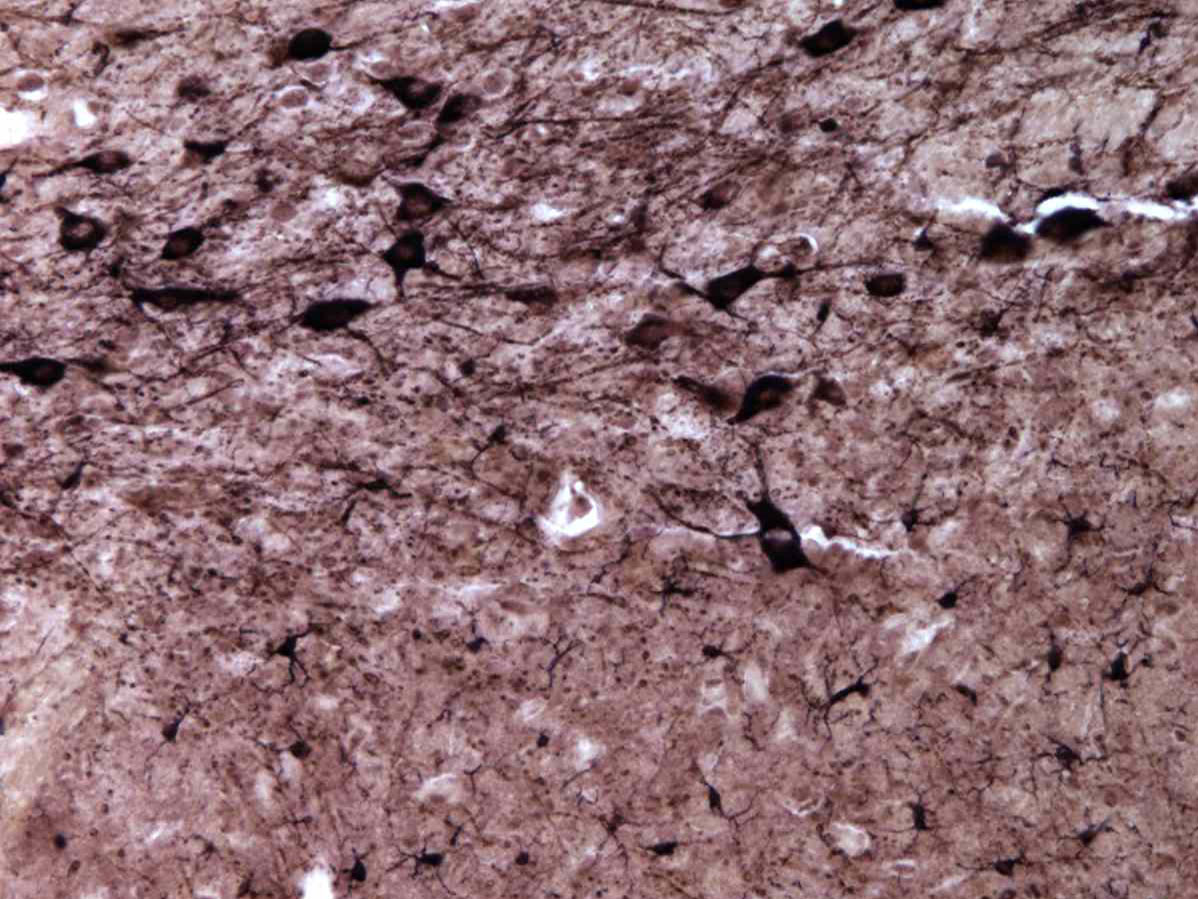neuron: (732, 367, 799, 431), (384, 75, 439, 114), (392, 185, 447, 224), (383, 238, 438, 277), (61, 212, 101, 250), (161, 226, 201, 264), (90, 140, 130, 178)
